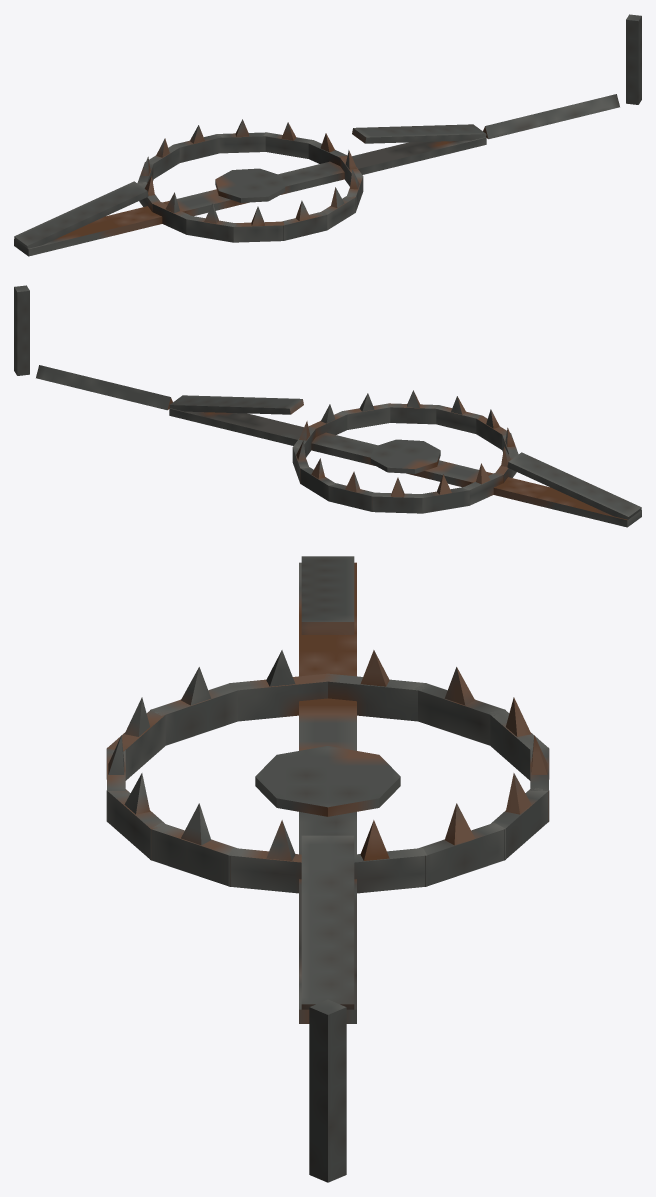
File: Bear_Trap_01.obj
3 views of the same model, one above another, from view 1: azimuth 30°, elevation 25°; view 2: azimuth 150°, elevation 25°; view 3: azimuth 270°, elevation 25° (orthographic). The views are drawn at different scales.
Visible parts, largest first — view 1: Bear_Trap_01; view 2: Bear_Trap_01; view 3: Bear_Trap_01.
Part boxes in pixels (left/top/right/bottom): Bear_Trap_01: left=14, top=14, right=641, bottom=256; Bear_Trap_01: left=14, top=285, right=641, bottom=527; Bear_Trap_01: left=106, top=556, right=549, bottom=1182.
Bounding box in the file's own units: 1.09 × 0.14 × 0.3347.
1 material, 1 textured.
